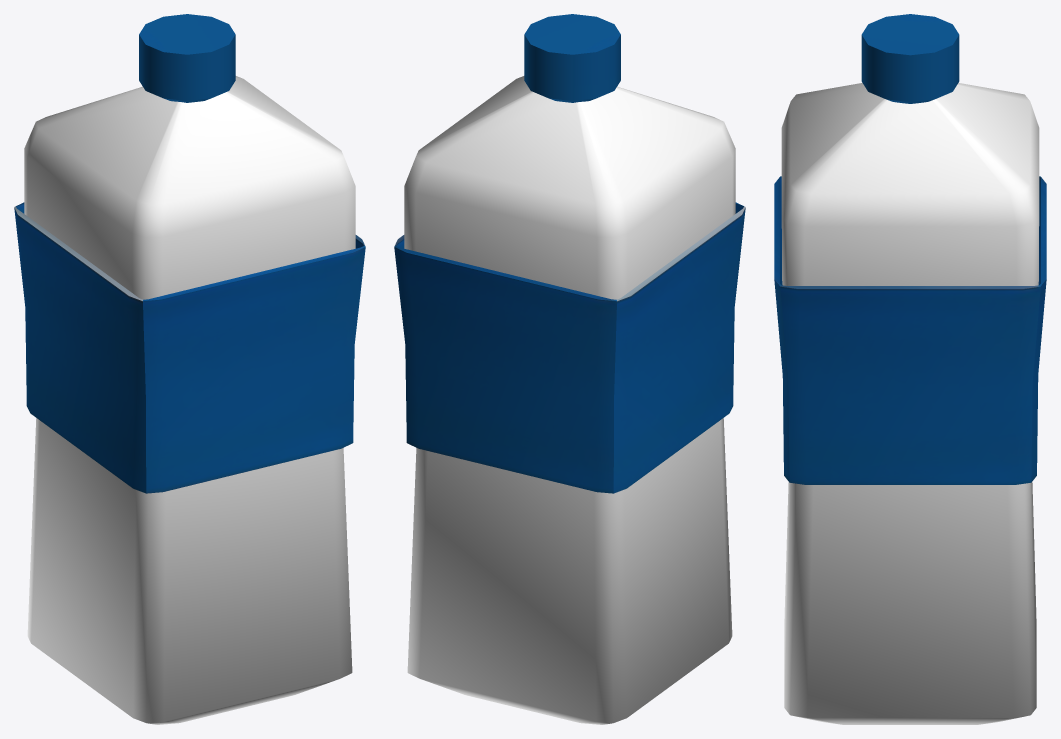
Rendered from SM_drink_water_01.fbx.
3 renders of one model, left to right at view 1: azimuth 30°, elevation 25°; view 2: azimuth 150°, elevation 25°; view 3: azimuth 270°, elevation 25°, orthographic.
Visible parts, largest first — view 1: Object32283; view 2: Object32283; view 3: Object32283.
Part boxes in pixels (x1,y1,x2,y2): Object32283: [14, 14, 365, 724]; Object32283: [394, 14, 745, 724]; Object32283: [774, 14, 1046, 724].
Size of the model in its own units: 12.08 by 31.73 by 12.08.
